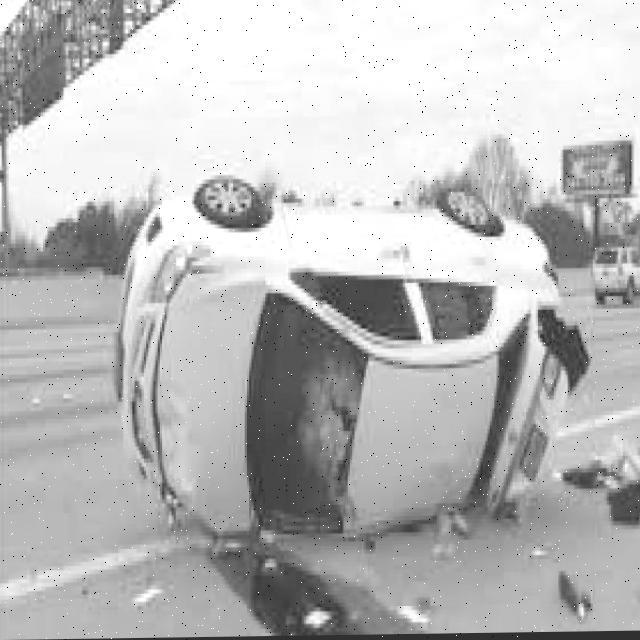single accident: (80, 143, 596, 596)
